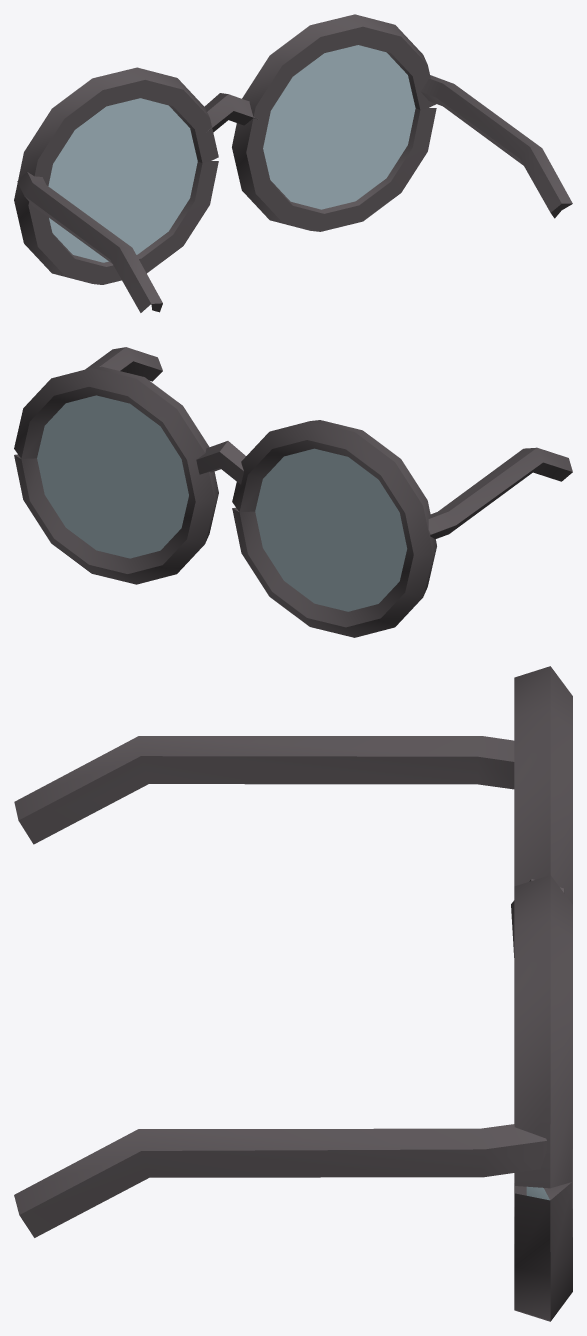
File: glasses.gltf
3 views of the same model, one above another, from view 1: azimuth 30°, elevation 25°; view 2: azimuth 150°, elevation 25°; view 3: azimuth 270°, elevation 25° (orthographic). The views are drawn at different scales.
Parts seen in each view (by area): view 1: glasses; view 2: glasses; view 3: glasses.
Part boxes in pixels (x1,y1,x2,y2): glasses: (14, 14, 572, 312); glasses: (14, 347, 572, 637); glasses: (14, 666, 572, 1321).
Bounding box in the file's own units: 0.4947 × 0.2254 × 0.2827.
